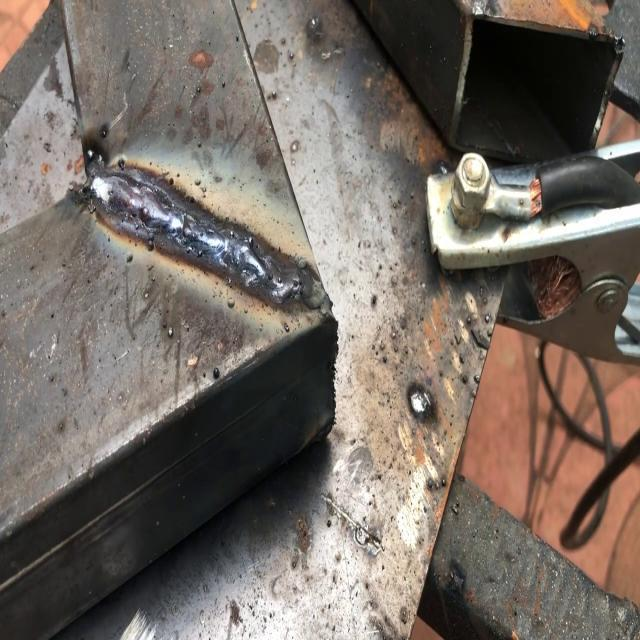Bad Welding: (84, 154, 325, 309)
